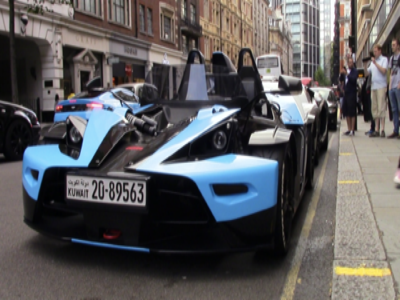licence: (65, 175, 147, 207)
